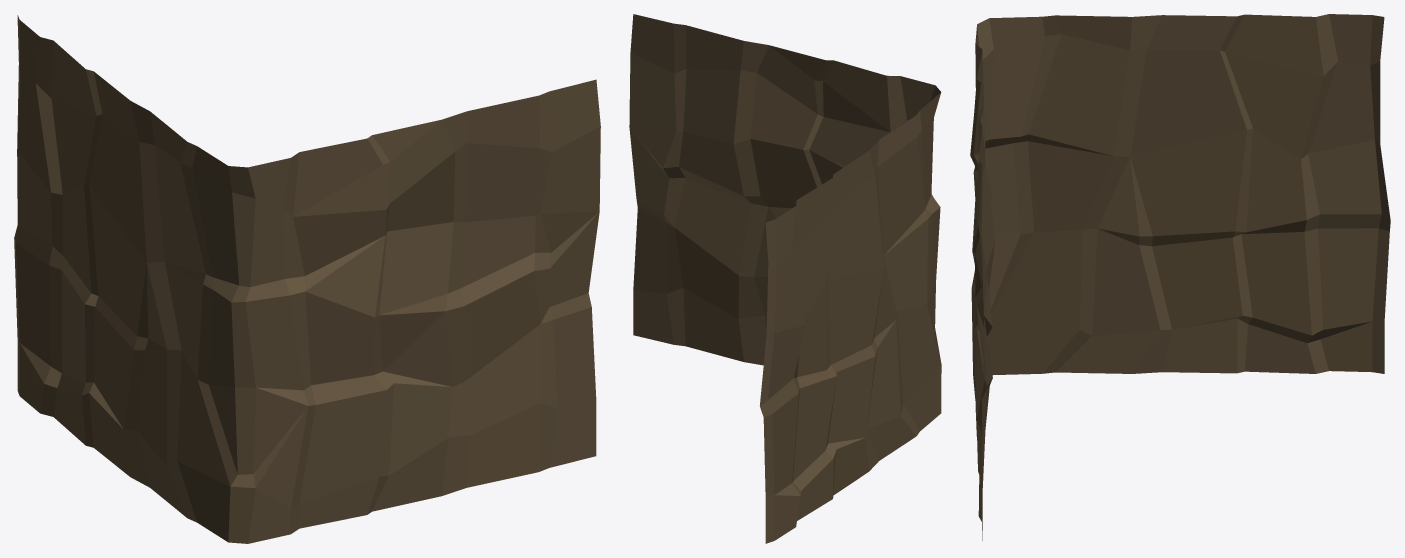
The model's file is tile_WallDirt_Corner.fbx.
3 renders of one model, left to right at view 1: azimuth 30°, elevation 25°; view 2: azimuth 150°, elevation 25°; view 3: azimuth 270°, elevation 25°, orthographic. The views are drawn at different scales.
Parts seen in each view (by area): view 1: tileMesh.003; view 2: tileMesh.003; view 3: tileMesh.003.
Boxes of the visible parts, bbox=[...] form: tileMesh.003: bbox=[14, 15, 600, 543]; tileMesh.003: bbox=[629, 14, 941, 543]; tileMesh.003: bbox=[970, 14, 1390, 540].
Bounding box in the file's own units: 263 × 250 × 267.
